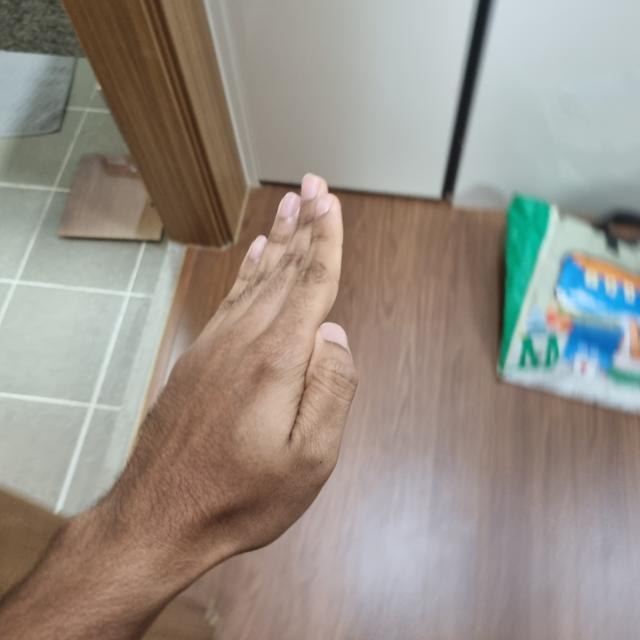Paper: (130, 292, 349, 556)
